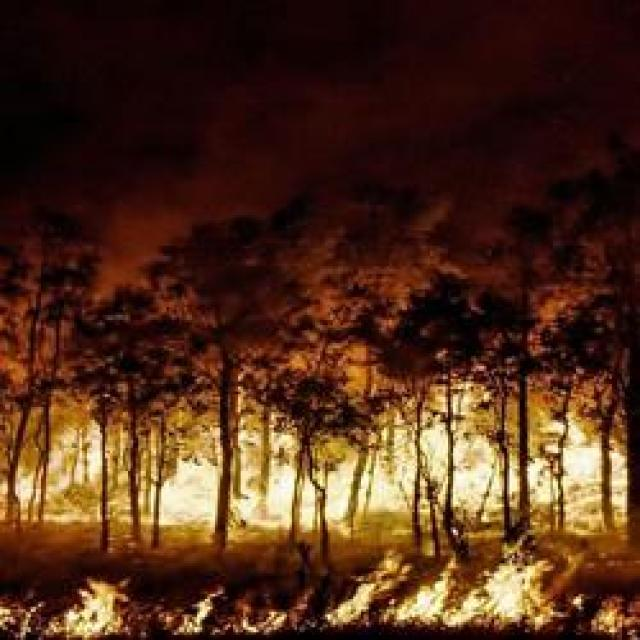Fire: (10, 378, 630, 526), (1, 546, 639, 640)
Smoke: (0, 0, 635, 360)
